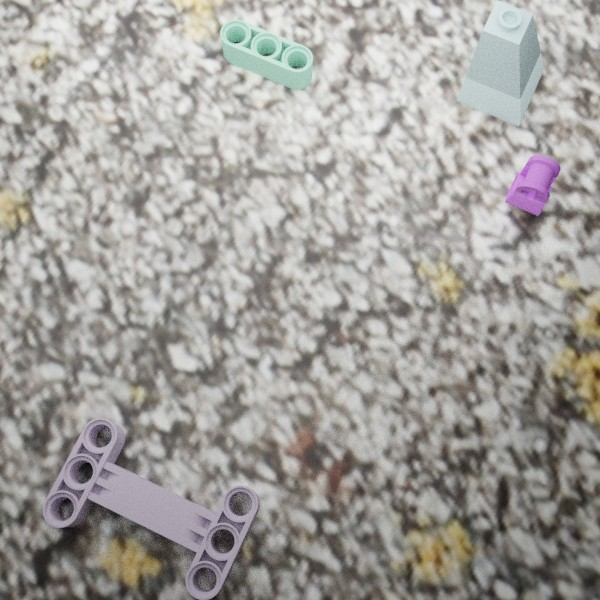lego: (42, 417, 259, 599), (456, 0, 544, 126), (220, 19, 312, 89), (504, 155, 560, 215)
